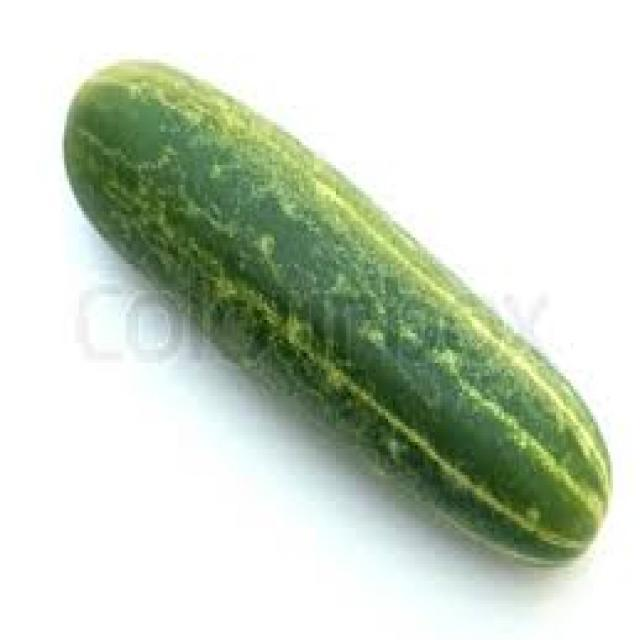organic waste: (62, 60, 608, 564)
